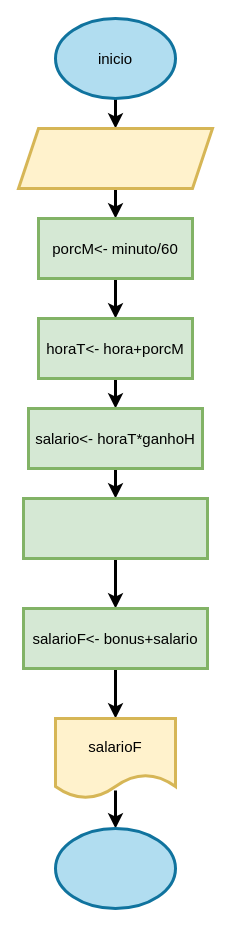
Image size: 231x927. Some labels were removed from this diagram. Each missing label, with the box of its shape:
bonus<- 70/100*salario: (22, 496, 208, 560)
fim: (54, 826, 176, 910)
hora, minuto, ganhoH: (16, 126, 214, 190)
